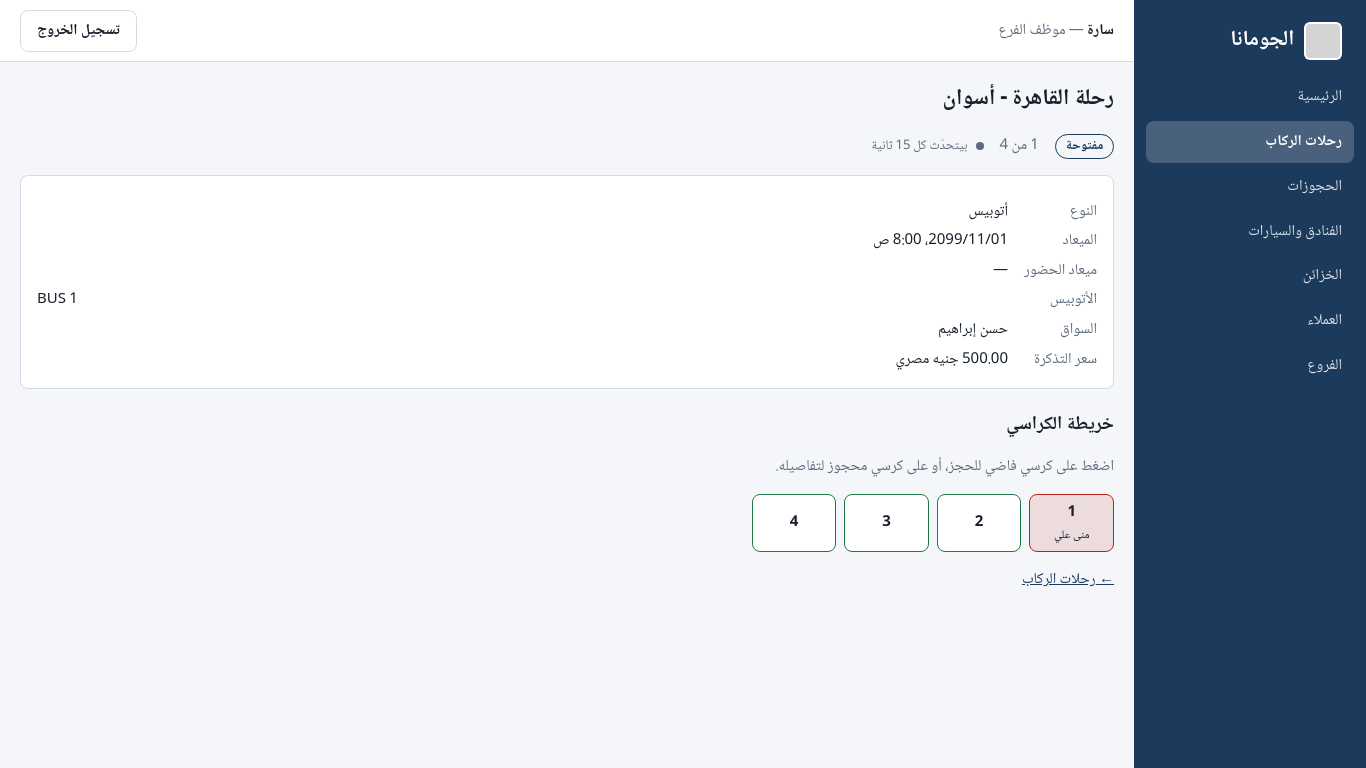
Test case: seat map › books a free seat into the only treasury in the trip currency
Step 1. Click the button "2" → (979, 523), box [937,494,1022,552]
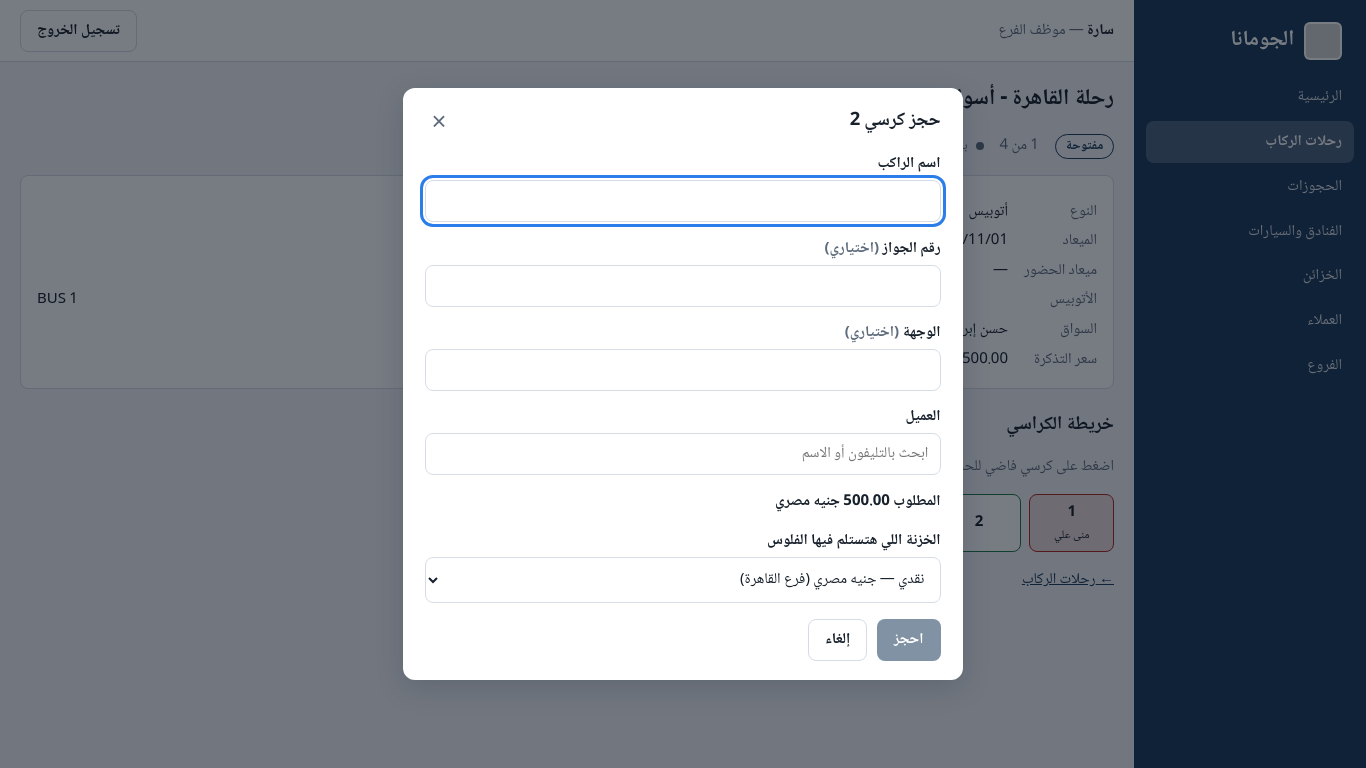
Now the button "احجز" is disabled, box [877,619,941,661]
Step 2. Type "سمير حسن" into the field labelled "اسم الراكب" → (683, 201), box [425,180,941,222]
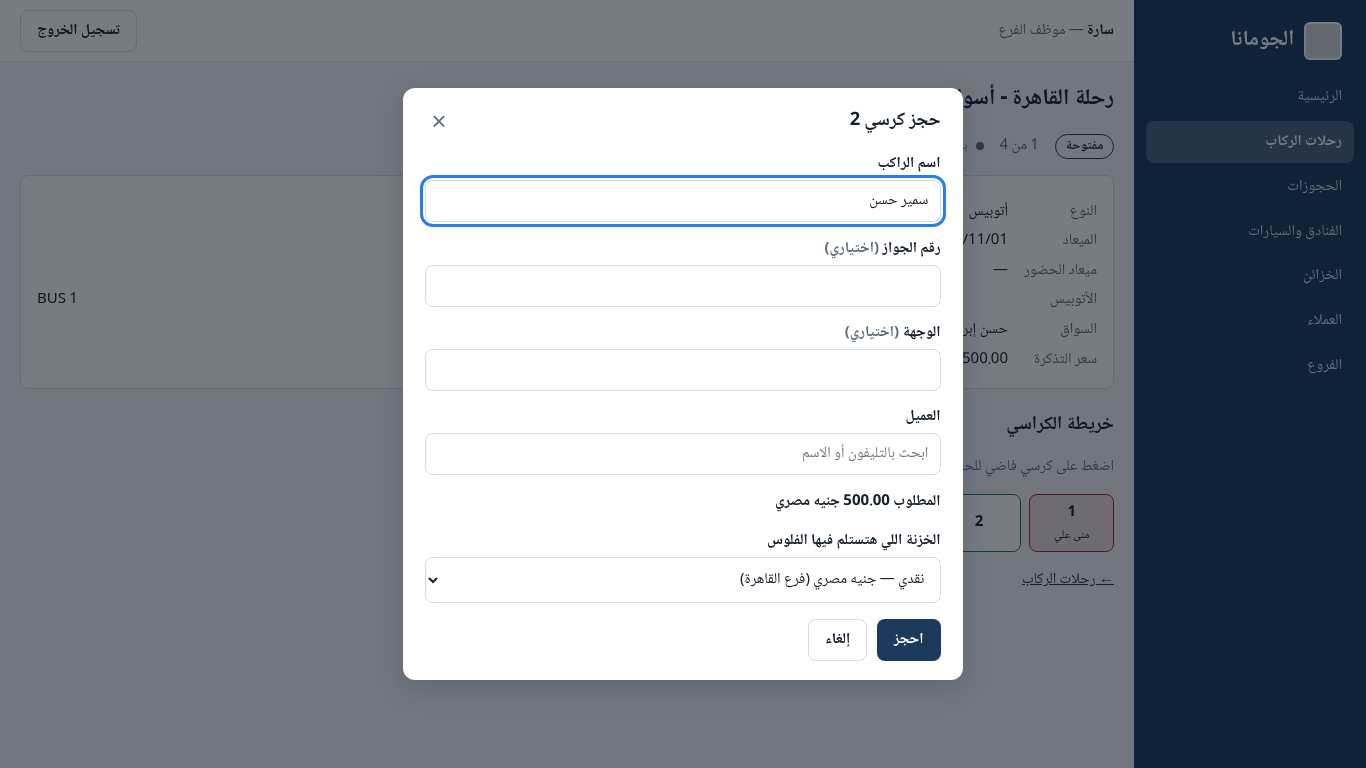
Step 3. Type "B777" into the field labelled "رقم الجواز (اختياري)" → (683, 286), box [425,264,941,306]
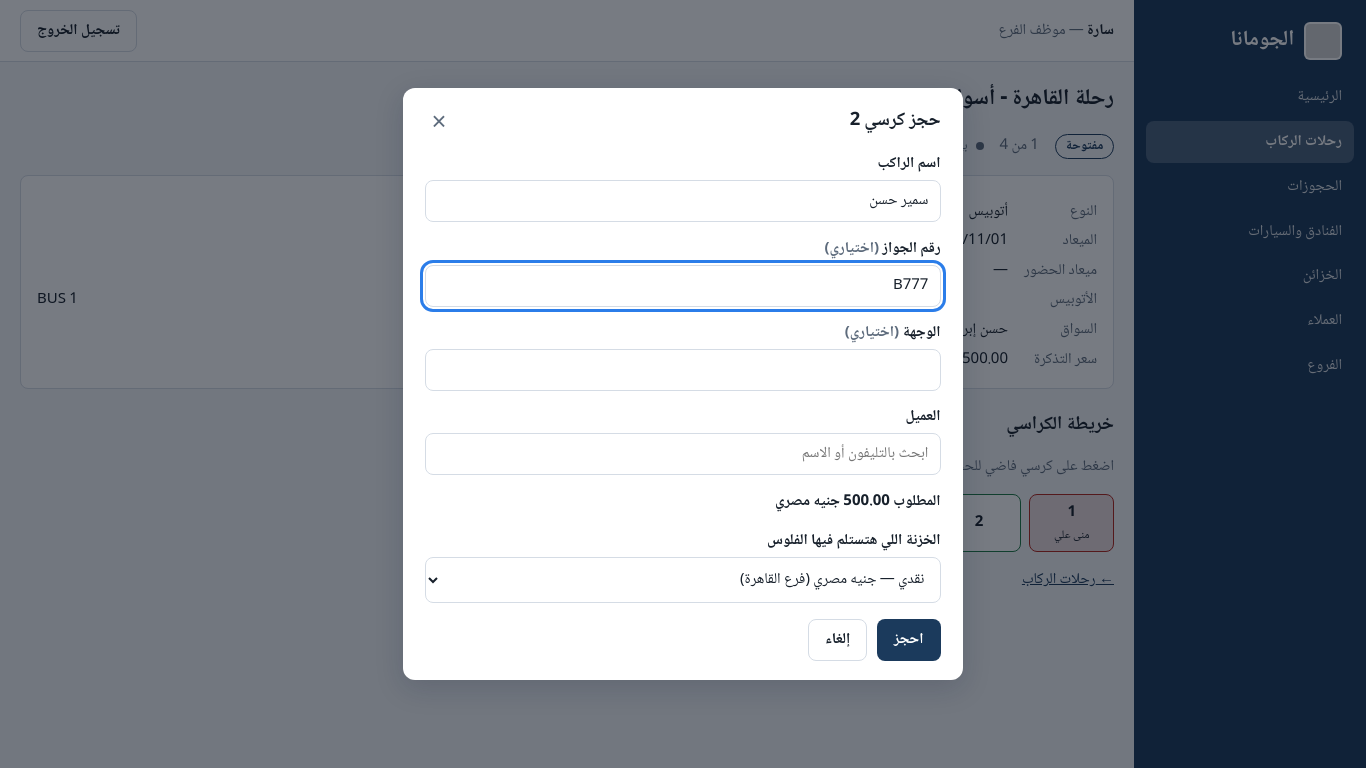
Now the button "احجز" is enabled
Step 4. Click the button "احجز" → (909, 640), box [877,619,941,661]
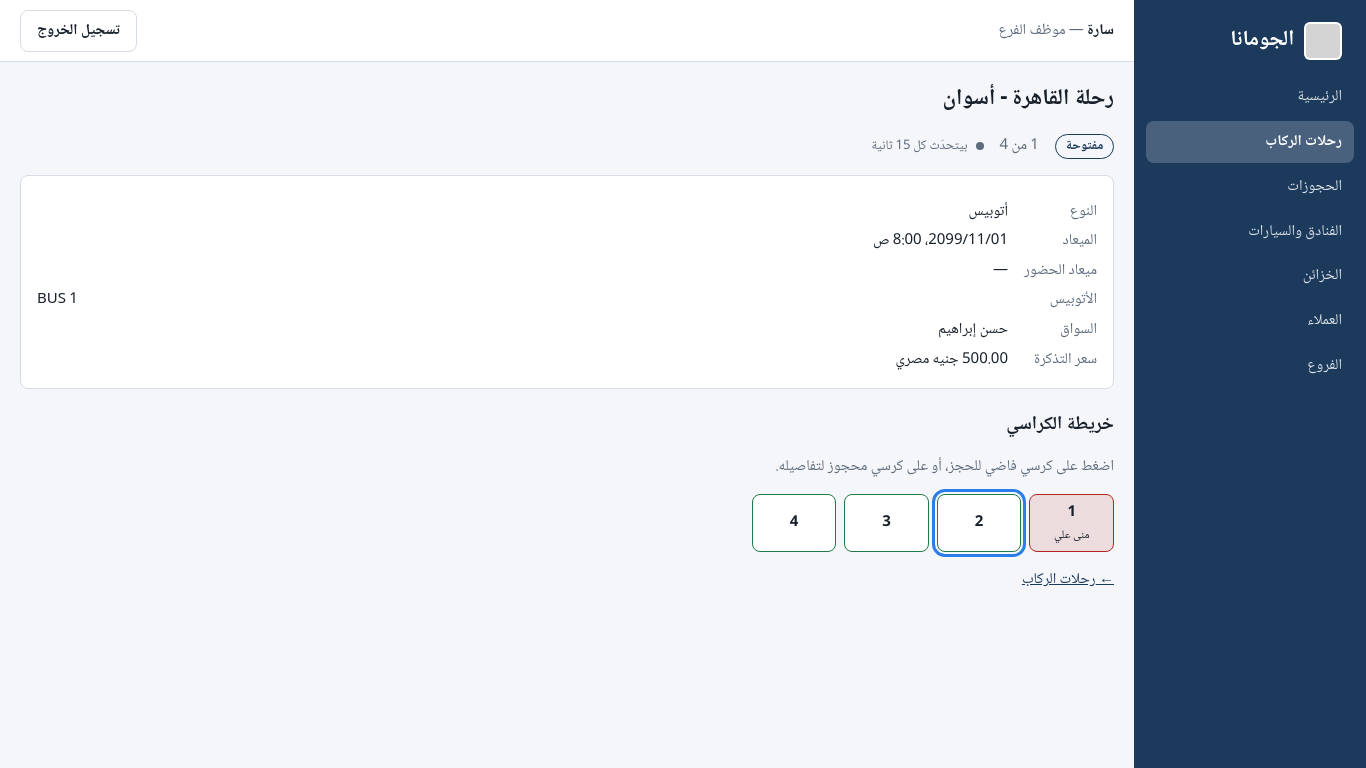
Now the dialog is gone
